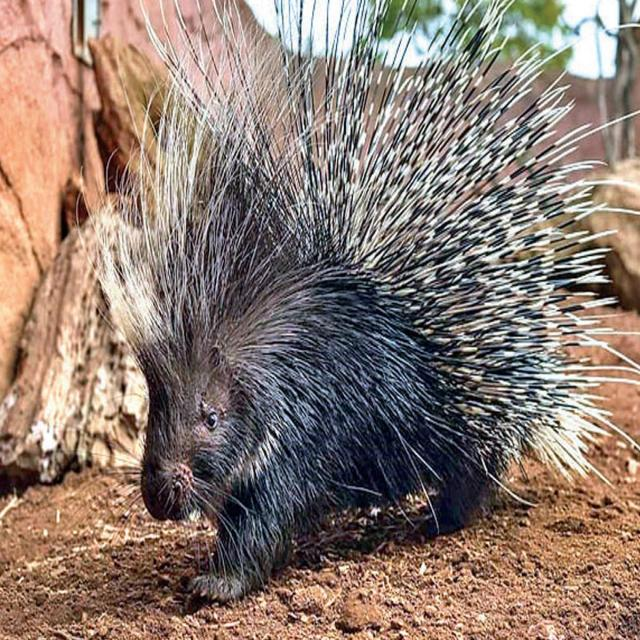Porcupine: (95, 101, 581, 580)
